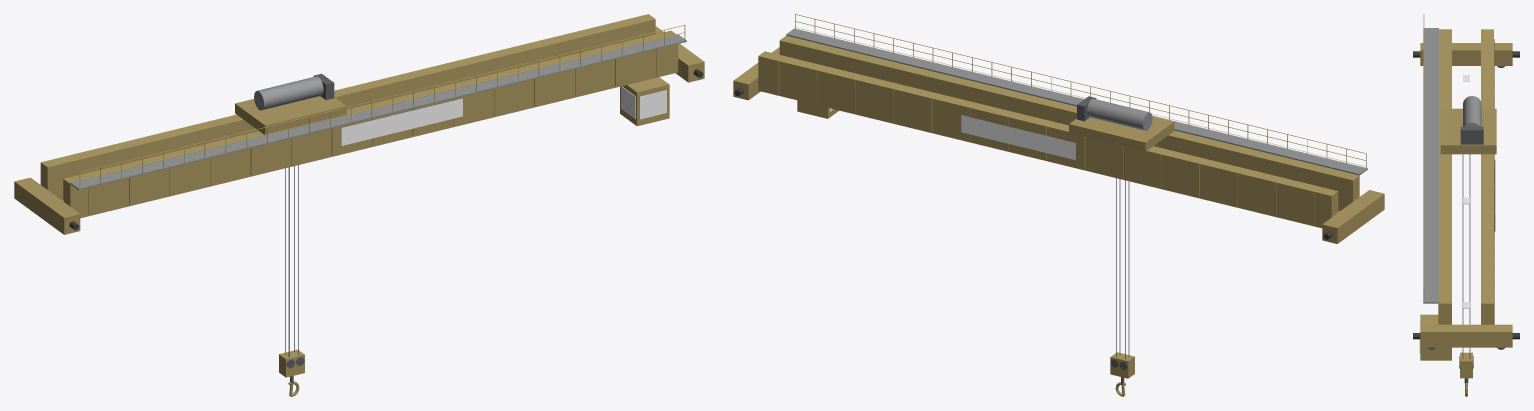
The model's file is crane.glb.
3 views of the same model, side by side, from view 1: azimuth 30°, elevation 25°; view 2: azimuth 150°, elevation 25°; view 3: azimuth 270°, elevation 25° (orthographic). The views are drawn at different scales.
Parts seen in each view (by area): view 1: crane; view 2: crane; view 3: crane.
Part boxes in pixels (x1=…): crane: x1=14, y1=14, x2=704, y2=396; crane: x1=733, y1=14, x2=1384, y2=396; crane: x1=1413, y1=14, x2=1519, y2=396.
Size of the model in its own units: 47.4 by 21.94 by 7.4.
